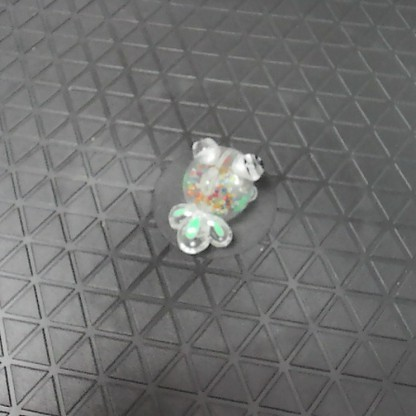whitefish: (172, 132, 264, 254)
